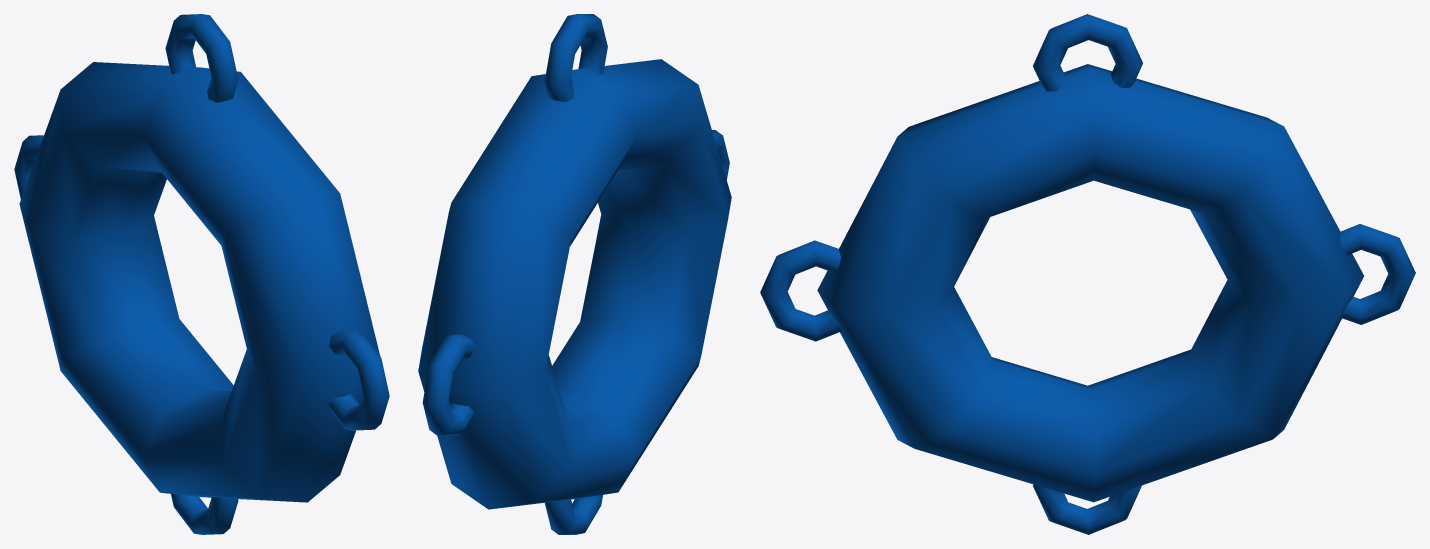
Rendered from portal.obj.
3 views of the same model, side by side, from view 1: azimuth 30°, elevation 25°; view 2: azimuth 150°, elevation 25°; view 3: azimuth 270°, elevation 25° (orthographic).
Parts seen in each view (by area): view 1: test1; view 2: test1; view 3: test1.
Part boxes in pixels (x1=…): test1: x1=14, y1=14, x2=389, y2=534; test1: x1=418, y1=14, x2=731, y2=534; test1: x1=760, y1=14, x2=1415, y2=534.
Size of the model in its own units: 14.93 by 52.87 by 60.42.
